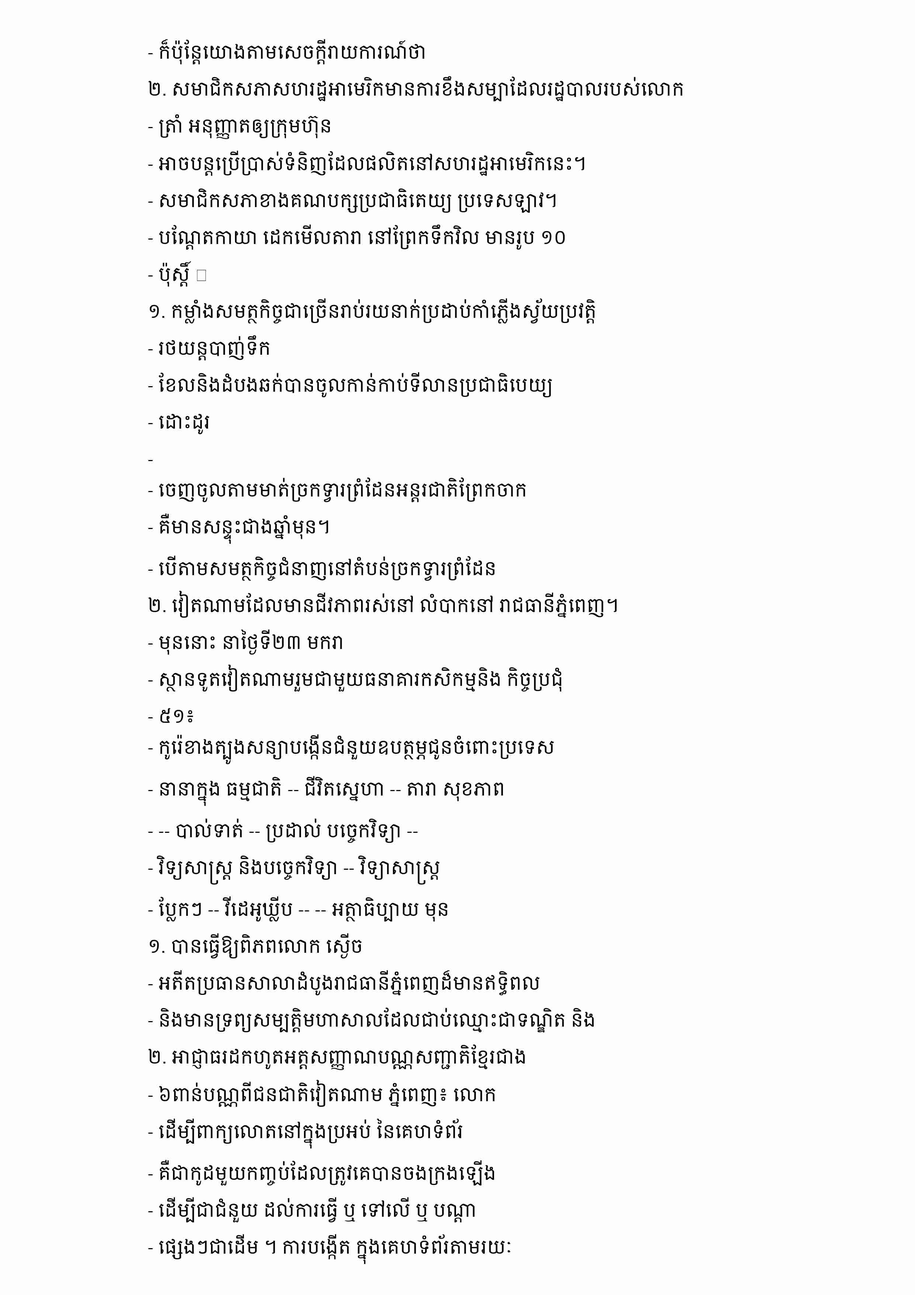text: (148, 76, 689, 102), (148, 591, 624, 618), (148, 734, 560, 765), (148, 298, 602, 324), (148, 1007, 601, 1033), (148, 664, 568, 692), (148, 1234, 518, 1264), (148, 151, 591, 176), (148, 224, 572, 250), (148, 776, 510, 806), (148, 372, 558, 398), (148, 188, 563, 213), (148, 970, 545, 996), (148, 1044, 532, 1070), (148, 477, 532, 502), (148, 1119, 468, 1149), (148, 1080, 502, 1107), (148, 1160, 501, 1186), (148, 855, 445, 885), (148, 556, 501, 581), (148, 1197, 481, 1223), (148, 896, 455, 922), (148, 39, 431, 65), (148, 818, 423, 843), (148, 513, 335, 544), (148, 933, 368, 959), (148, 629, 349, 655), (148, 114, 337, 139), (148, 335, 276, 361), (148, 261, 213, 287), (148, 414, 215, 434), (148, 708, 200, 723), (148, 460, 158, 466)
